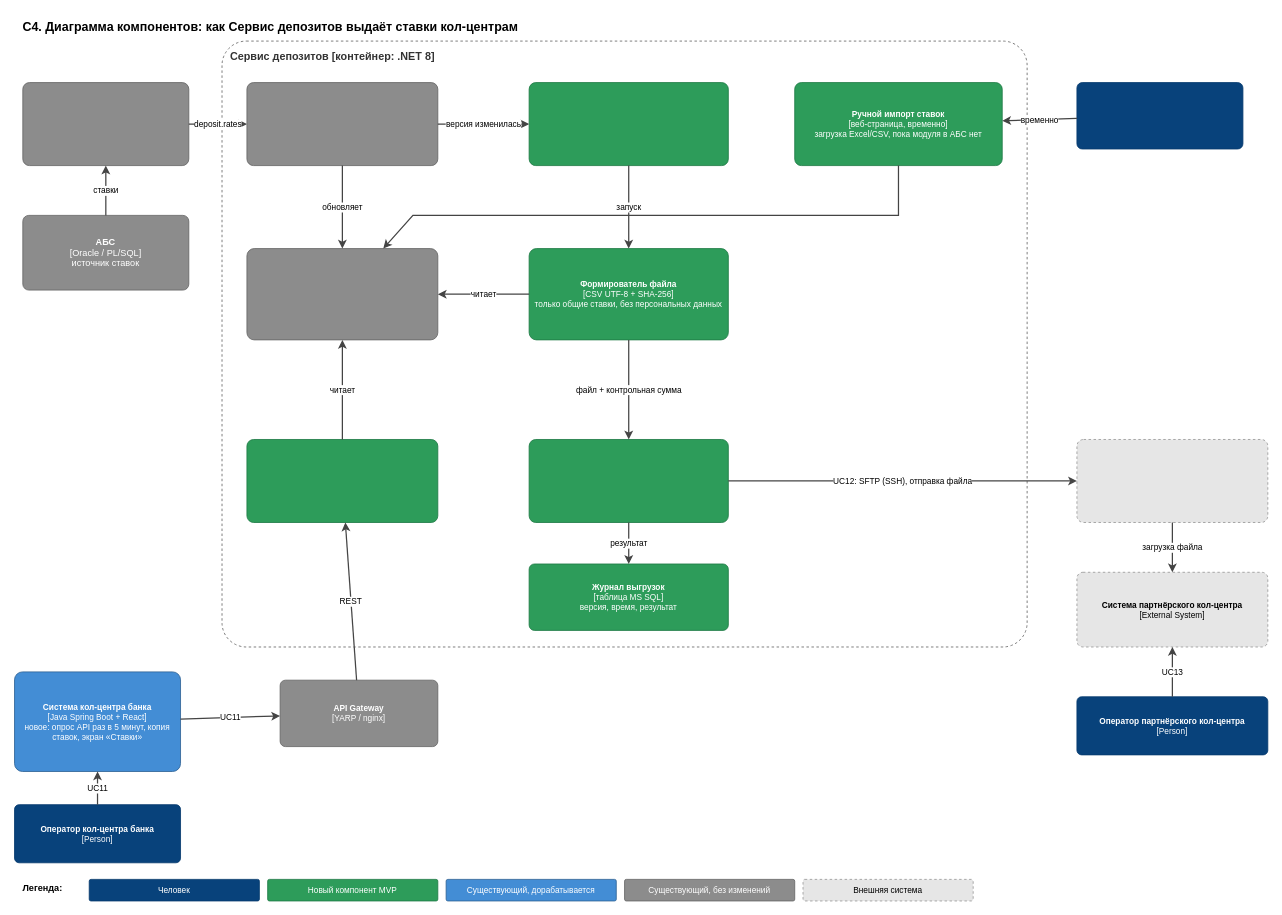
This 1282x915 diagram has some shape labels left out. Here are the shapes that lost their labels. From the top down, the centre of each, then its label:
At pixel 105 124: "Kafka [топик deposit.rates]".
At pixel 342 124: "Потребитель ставок [Kafka consumer] читает deposit.rates, обновляет каталог".
At pixel 628 124: "Планировщик выгрузки [scheduler] каждый день в 08:00 и при смене версии ставок".
At pixel 1159 115: "Менеджер бэк-офиса депозитов [Person]".
At pixel 342 294: "Каталог ставок [MS SQL] актуальные общие ставки и номер версии набора".
At pixel 342 480: "API ставок [REST, только чтение] общие ставки для кол-центра банка".
At pixel 628 480: "SFTP-клиент [SSH-ключ] загрузка, повторы при ошибке".
At pixel 1172 480: "SFTP-сервер партнёра [External System] принимает файлы".
